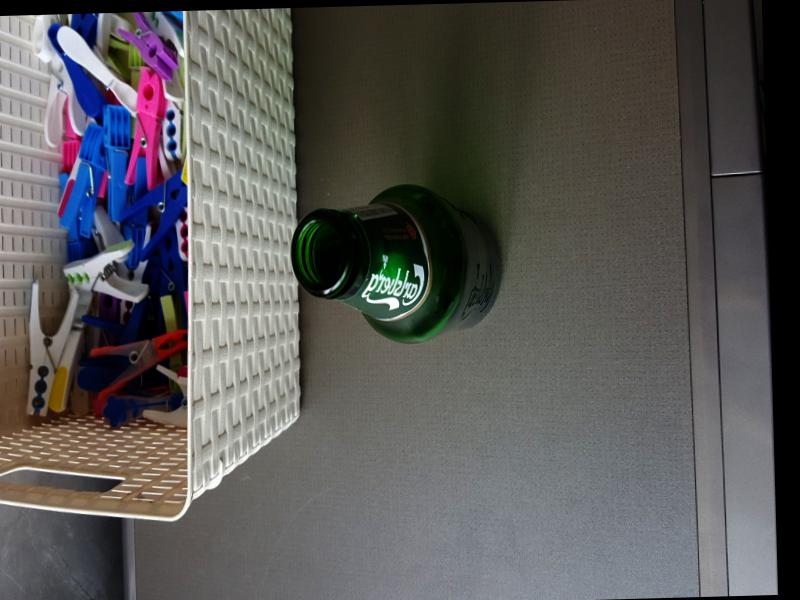Beer: (290, 182, 505, 348)
